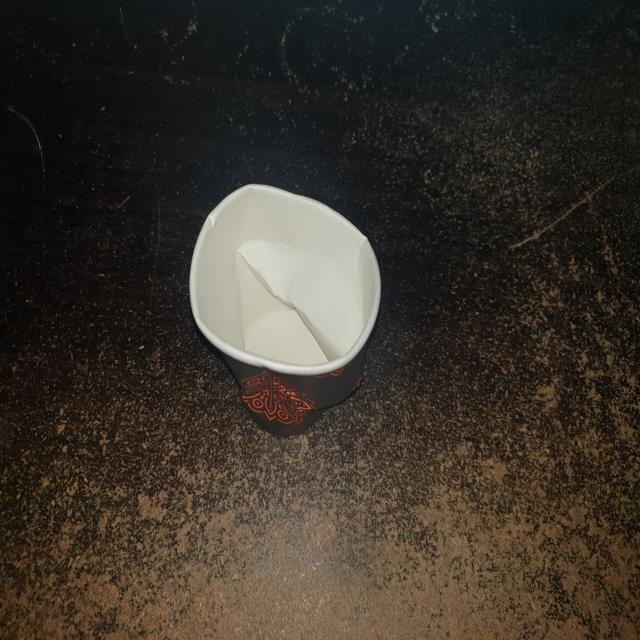cups: (185, 177, 383, 442)
